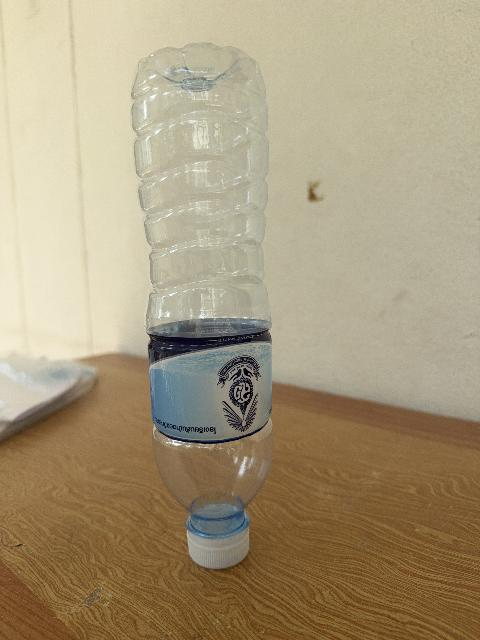bottle: (132, 44, 273, 568)
